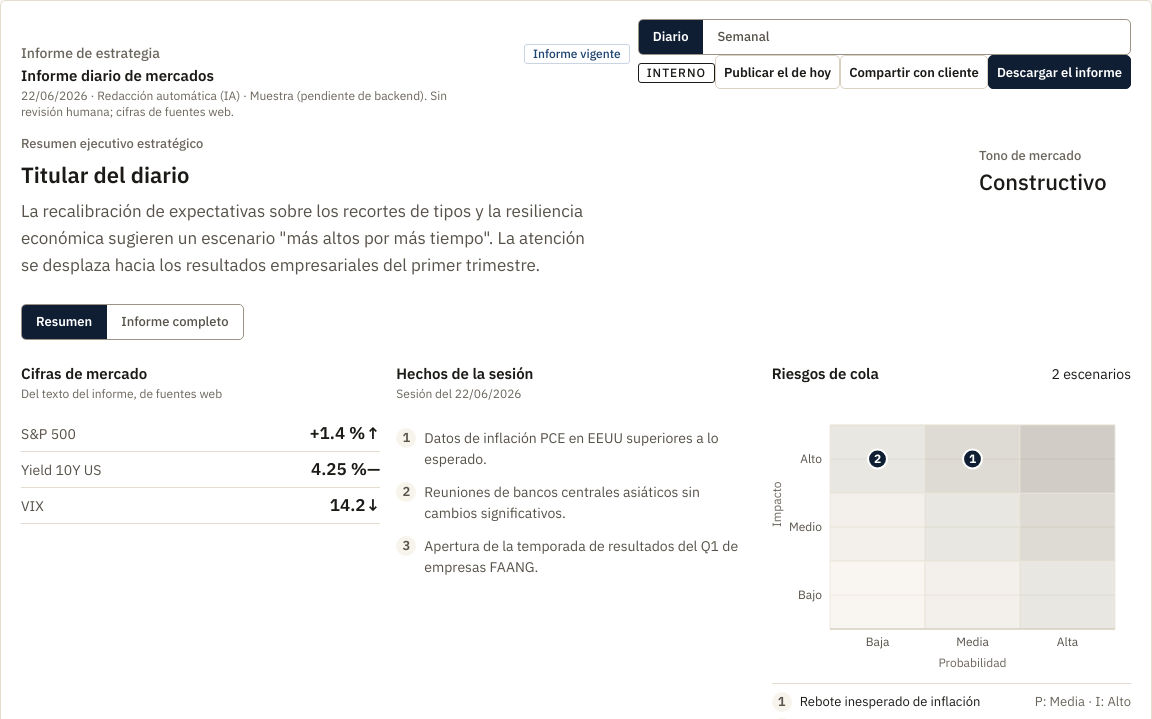
ACT-03: al pasar a Semanal, mientras carga no se ve el diario y el PDF y compartir quedan desactivados
This screenshot has width=1152, height=719.
Later steps or results of the test are not shown.
Expected: the button "Descargar el informe" is enabled, [988, 55, 1131, 89]
Step 1. Click the button "Semanal" → point(743, 37), box [702, 20, 784, 54]
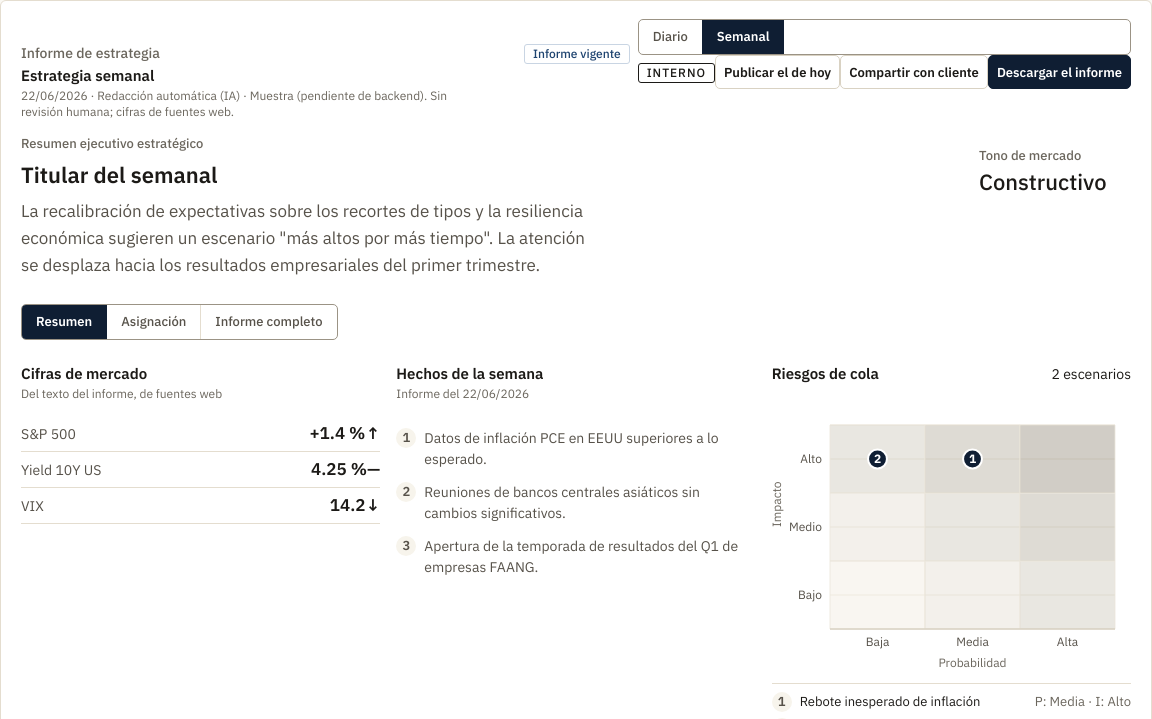
Expected: the text "Estrategia semanal" is shown, [21, 66, 154, 85]
Expected: the text "Titular del diario" is gone
Expected: the text "Titular del semanal" is shown, [21, 160, 218, 190]
